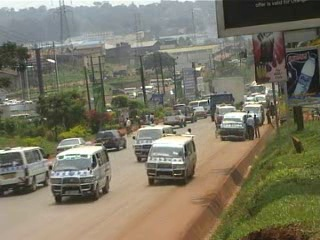Car: (52, 133, 94, 161), (92, 127, 128, 152), (177, 106, 199, 123), (195, 104, 209, 120)
